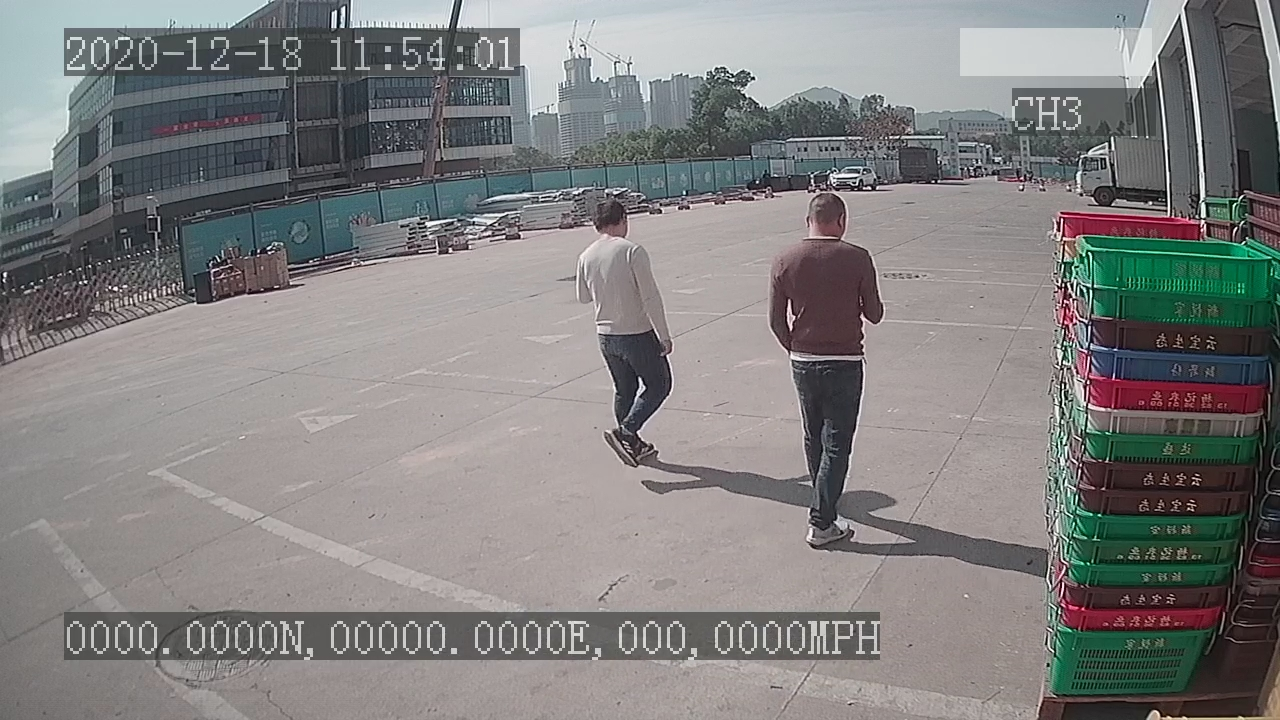person: (761, 188, 893, 554), (565, 195, 683, 472)
